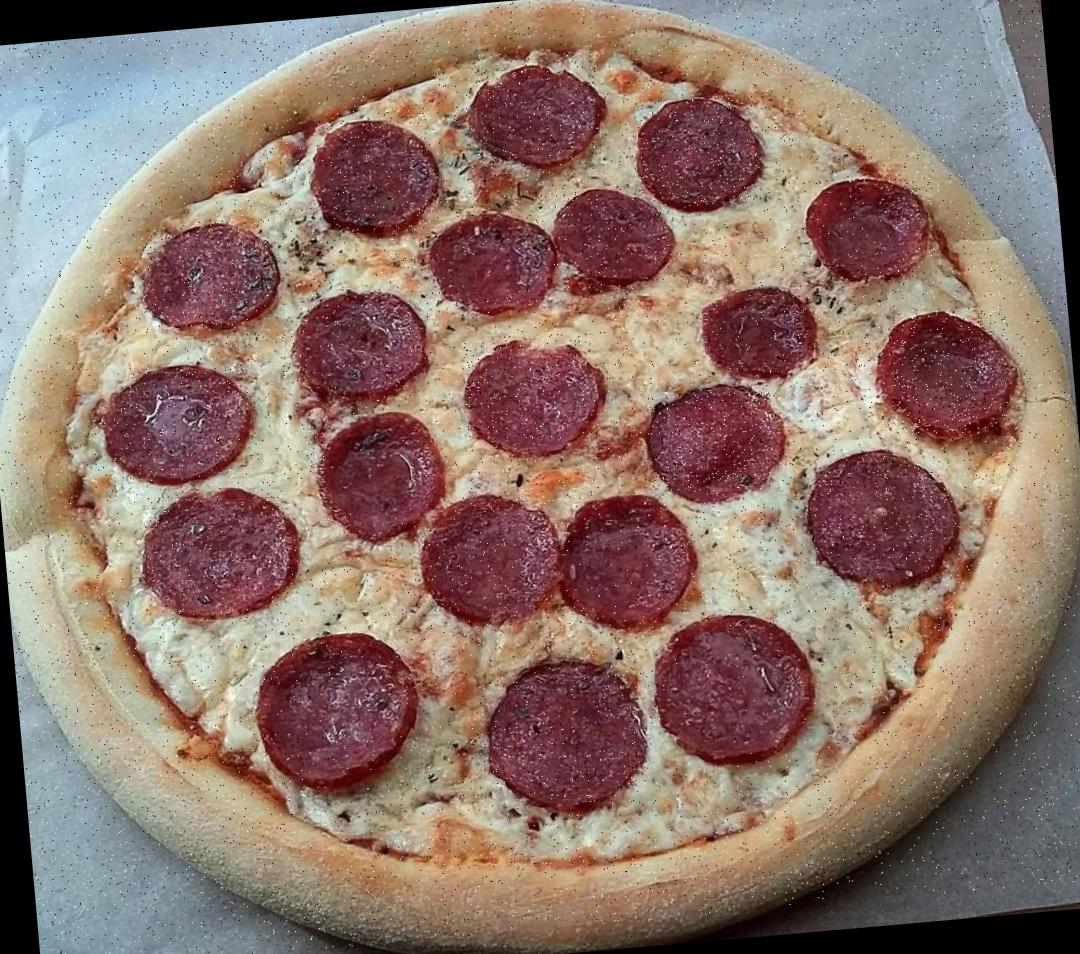Pepperoni: (482, 659, 645, 815), (652, 615, 813, 769), (256, 630, 417, 780), (141, 486, 297, 628), (565, 493, 698, 630), (807, 451, 950, 578), (114, 360, 264, 480), (461, 331, 605, 451), (887, 306, 1015, 438), (422, 492, 554, 620), (132, 220, 276, 335), (461, 56, 605, 166), (643, 384, 779, 498), (315, 114, 438, 240), (321, 409, 444, 534), (636, 94, 763, 212), (426, 212, 568, 316), (555, 181, 684, 295), (807, 171, 939, 282), (296, 288, 426, 396), (702, 291, 824, 381)
Pizza: (0, 0, 1080, 954)
